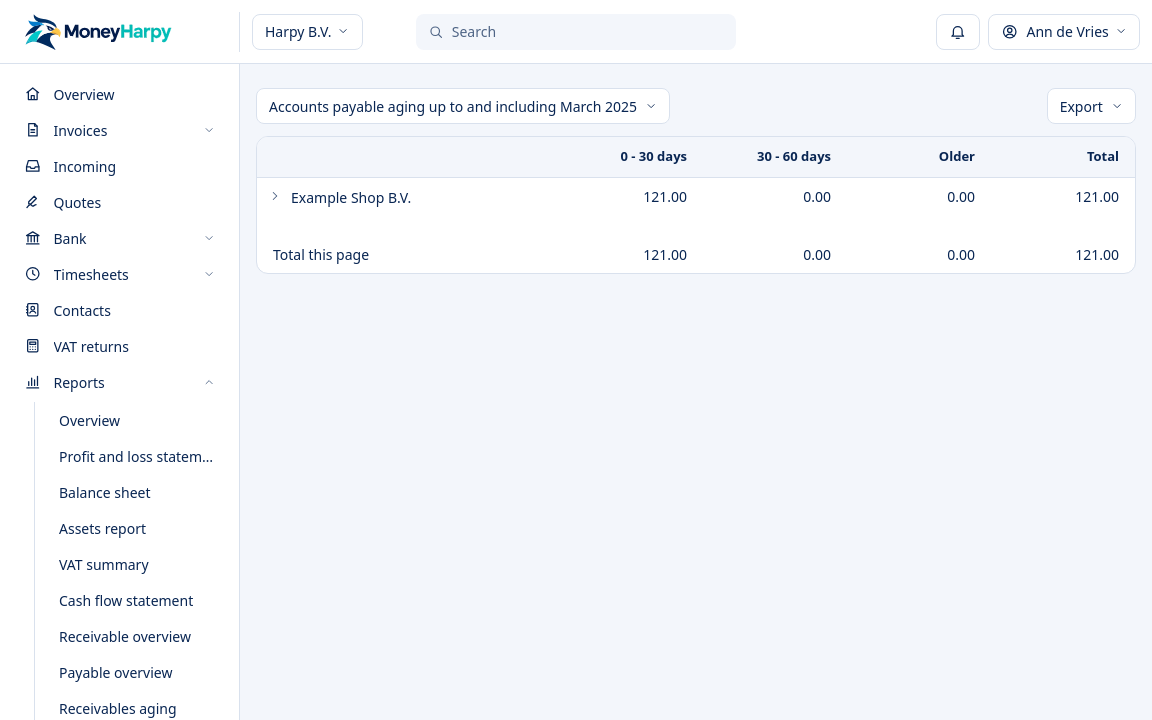
reports › opens a row of the aging report up into its invoices
Step 1. Click the button named "Expand Example Shop B.V." → (275, 196), box [265,186,285,206]
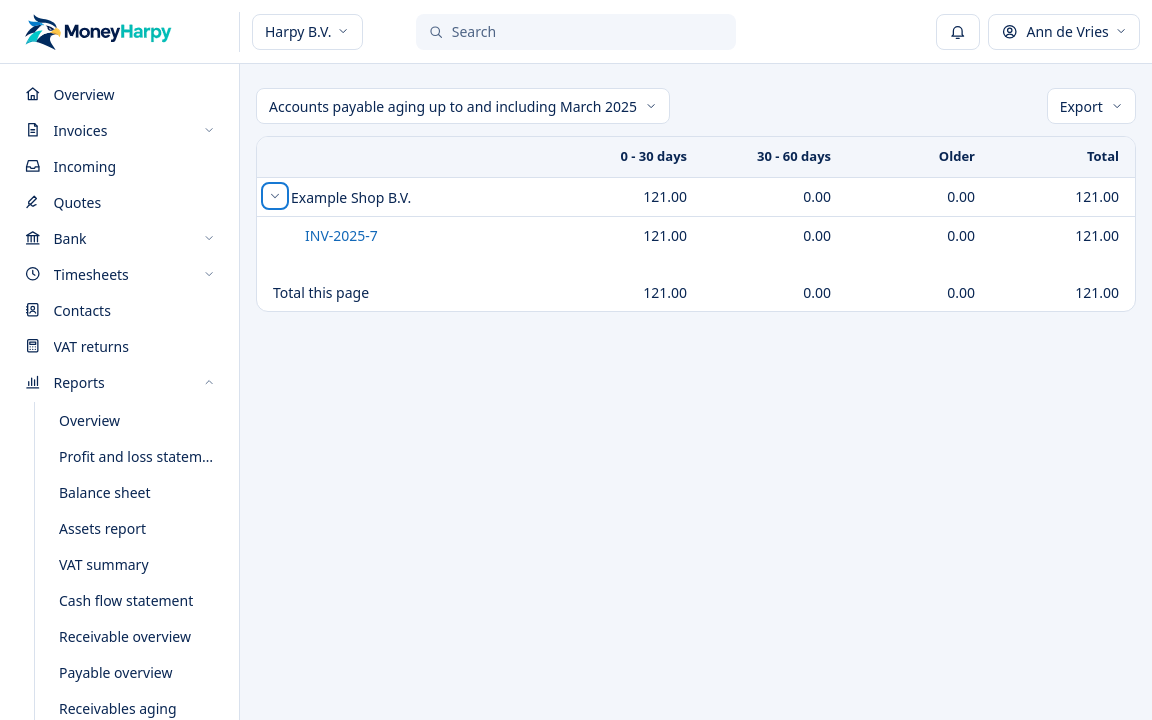
Result: the row "INV-2025-7 121.00 0.00 0.00 121.00" is shown at [257,216,1135,254]
Step 2. Click the button named "Collapse Example Shop B.V." → (275, 196), box [265,186,285,206]
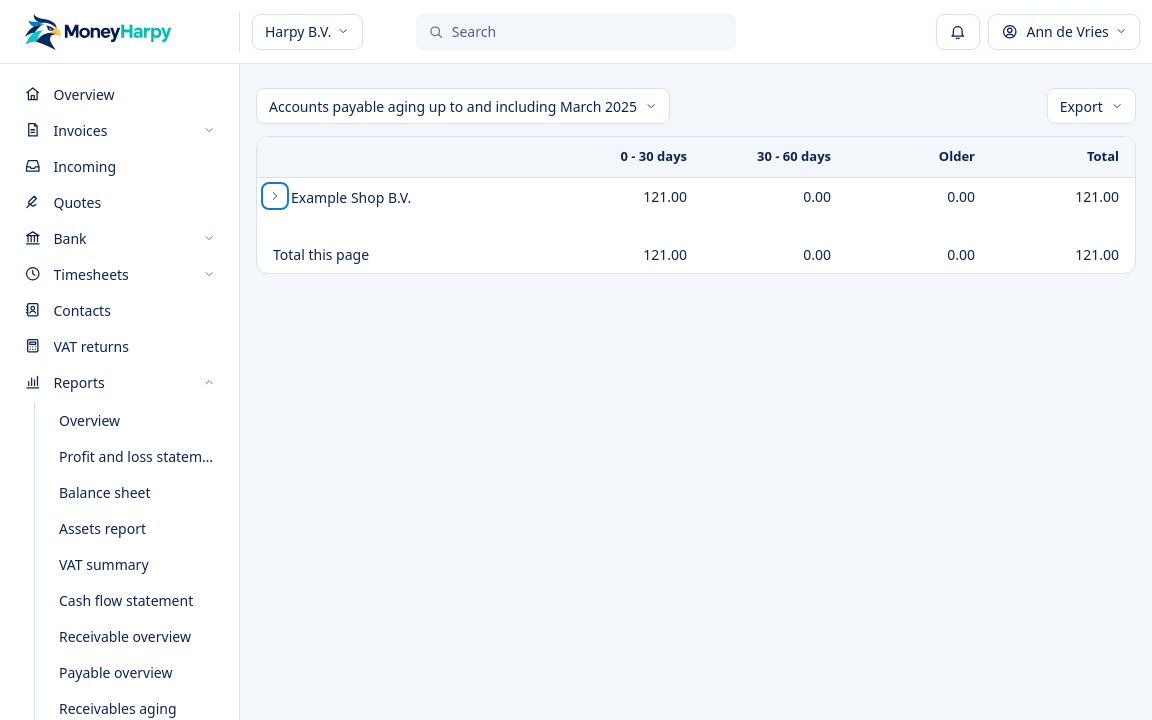
Result: the link "INV-2025-7" is gone
